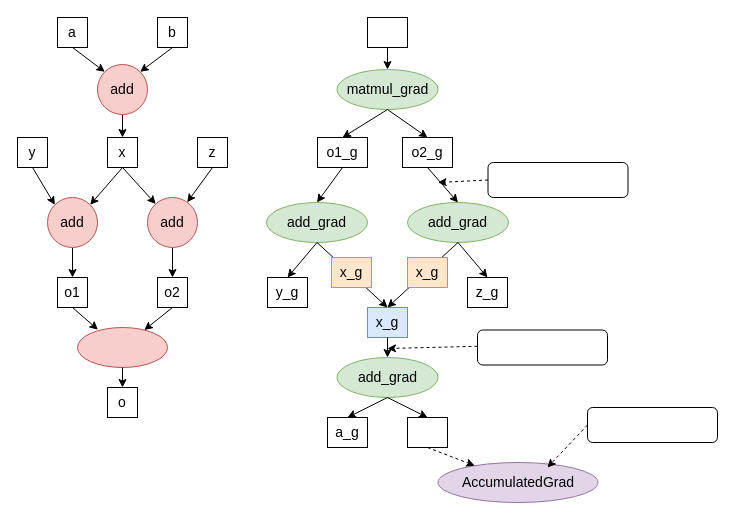
This 735x520 diagram has some shape labels left out. Each missing label, with the centre of its shape:
b.register_hook: (652,424)
b_g: (427,432)
matmul: (122,347)
o2.register_hook: (557,180)
o_g: (387,32)
x.register_hook: (542,347)
